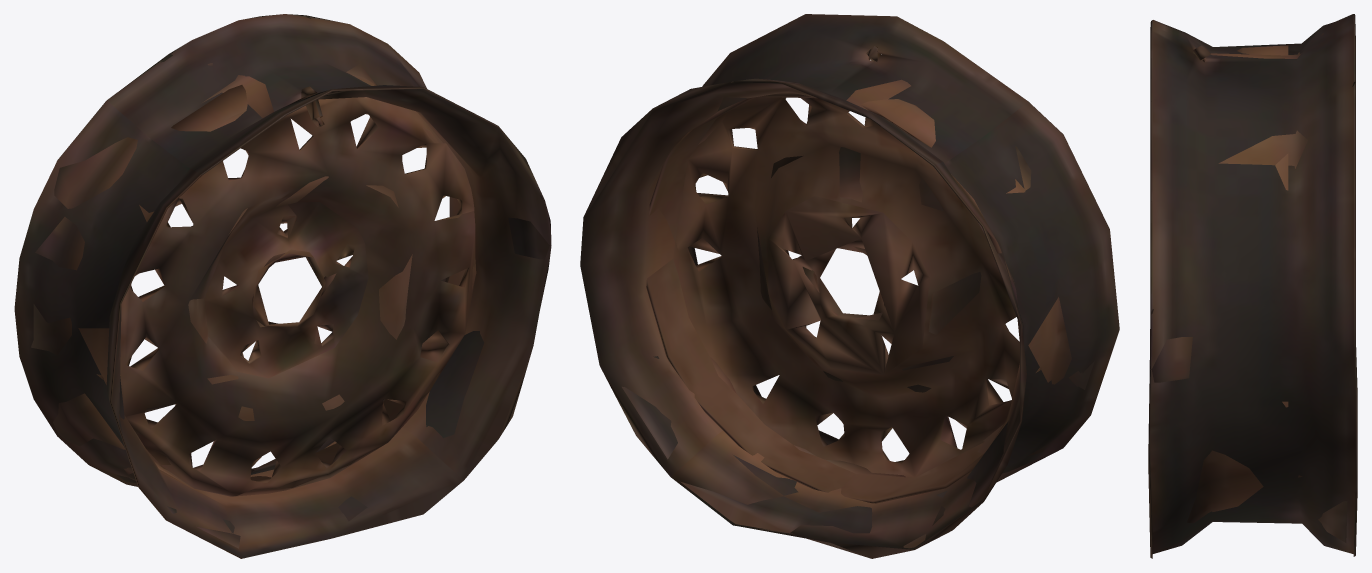
File: wheelRim.glb
The picture shows the model from 3 angles, left to right: view 1: azimuth 30°, elevation 25°; view 2: azimuth 150°, elevation 25°; view 3: azimuth 270°, elevation 25°; orthographic projection. The views are drawn at different scales.
Parts seen in each view (by area): view 1: rusted_wheel_rim_01; view 2: rusted_wheel_rim_01; view 3: rusted_wheel_rim_01.
Part boxes in pixels (<box>): rusted_wheel_rim_01: <box>14,14,551,558</box>; rusted_wheel_rim_01: <box>580,14,1119,558</box>; rusted_wheel_rim_01: <box>1148,14,1357,558</box>.
Bounding box in the file's own units: 0.4016 × 0.3938 × 0.1529.
1 material, 1 textured.
